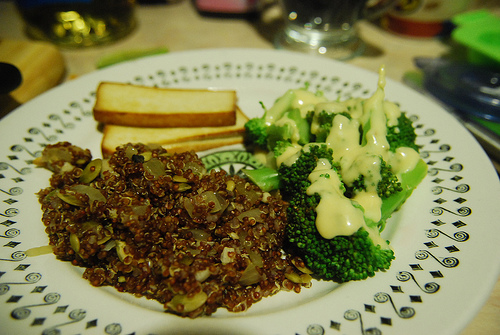broccoli: (273, 141, 428, 283), (245, 90, 298, 148), (384, 109, 420, 154), (314, 109, 353, 142)
